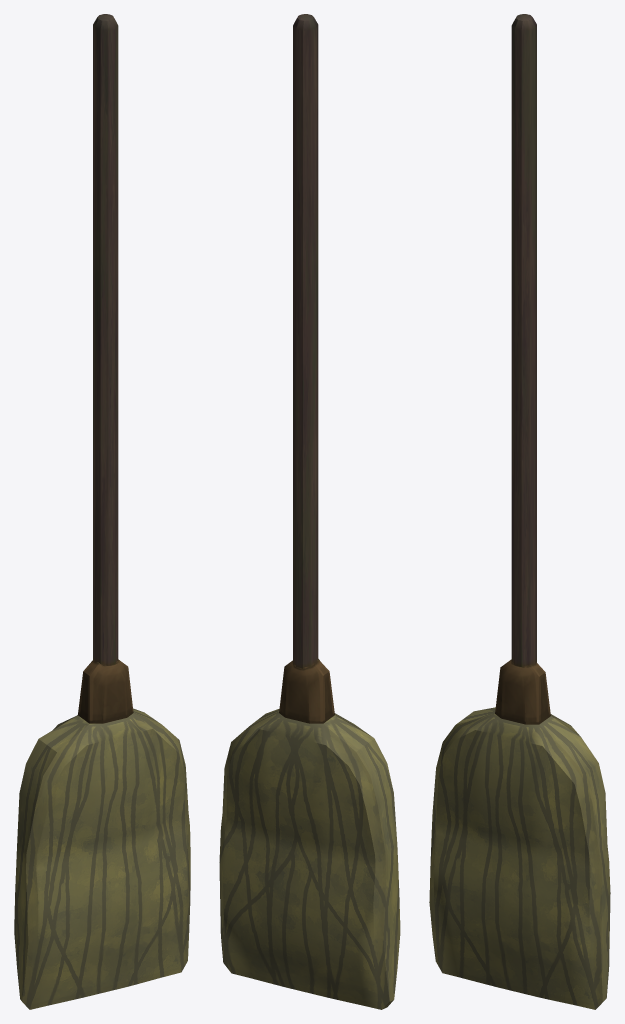
File: escoba.glb
3 views of the same model, side by side, from view 1: azimuth 30°, elevation 25°; view 2: azimuth 150°, elevation 25°; view 3: azimuth 330°, elevation 25° (orthographic).
Visible parts, largest first — view 1: Escoba_Low; view 2: Escoba_Low; view 3: Escoba_Low.
Boxes of the visible parts, x1,y1,x2,y2 form: Escoba_Low: (14, 14, 190, 1009); Escoba_Low: (219, 14, 400, 1009); Escoba_Low: (429, 14, 610, 1009).
Bounding box in the file's own units: 40.23 × 225 × 14.25.
Materials: 1 (1 with a texture image).
